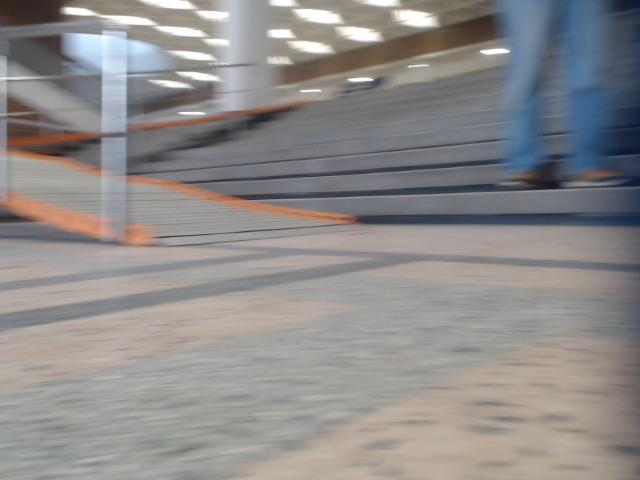rampUp: (127, 177, 337, 244), (0, 151, 101, 237)
ramps-railing: (0, 20, 127, 242)
